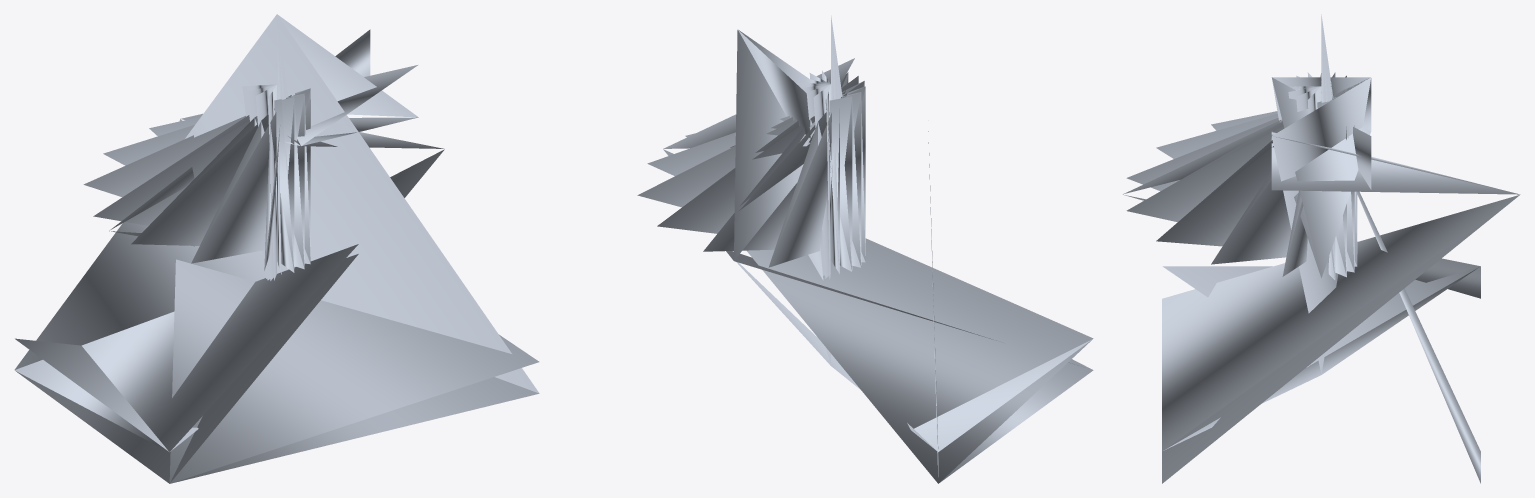
The model's file is ac_generator.glb.
3 renders of one model, left to right at view 1: azimuth 30°, elevation 25°; view 2: azimuth 150°, elevation 25°; view 3: azimuth 270°, elevation 25°, orthographic. The views are drawn at different scales.
Parts seen in each view (by area): view 1: tool; view 2: tool; view 3: tool.
Boxes of the visible parts, <box> form: tool: <box>14,14,539,483</box>; tool: <box>637,15,1093,483</box>; tool: <box>1123,14,1520,483</box>.
Bounding box in the file's own units: 2.2 × 2.09 × 2.
